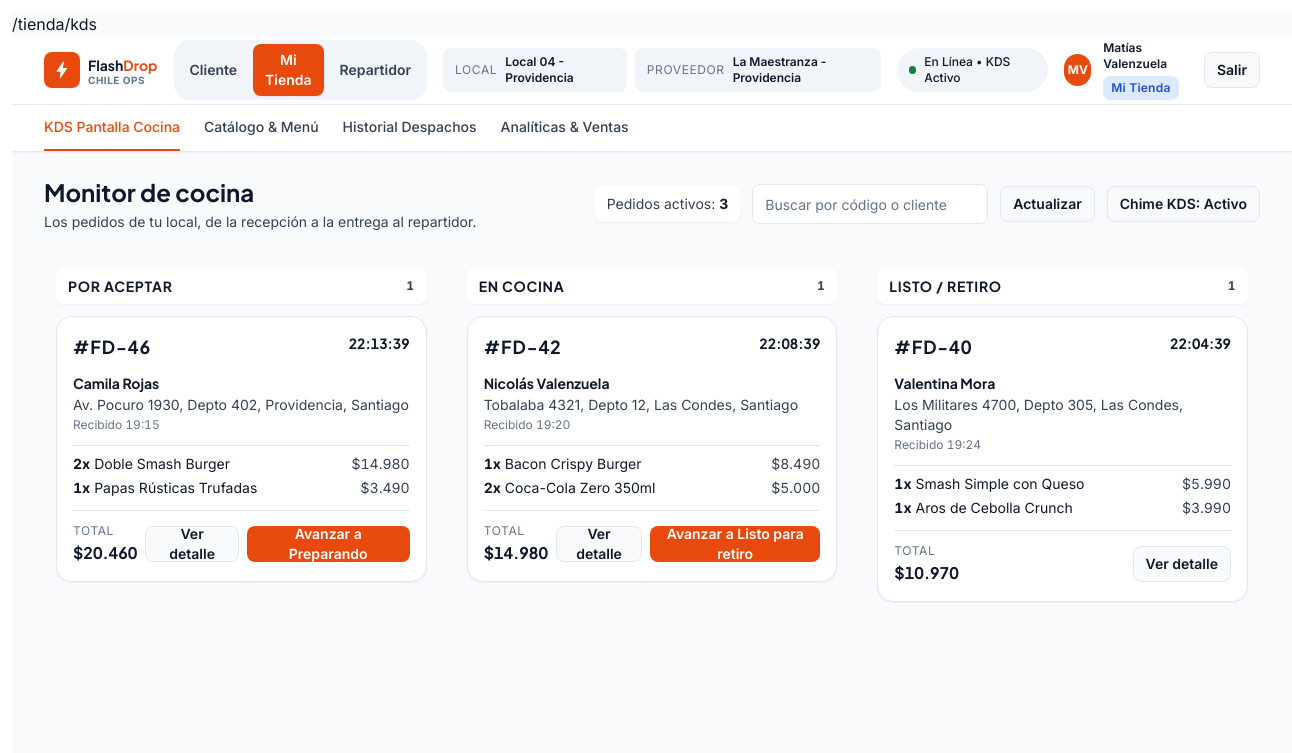
Test: end-to-end role workflows and hardening (spec S4, S5, S6) › executes the store operator workflow: kitchen board, order lifecycle, and catalog
Expected: the heading "Monitor de cocina" is shown, x1=44 y1=177 x2=254 y2=207
Expected: the element named "Columna POR ACEPTAR" is shown, x1=44 y1=256 x2=439 y2=594
Accept a pending order into preparation
Click the button "Avanzar a Preparando".
click(328, 544)  # box x1=247 y1=526 x2=410 y2=562
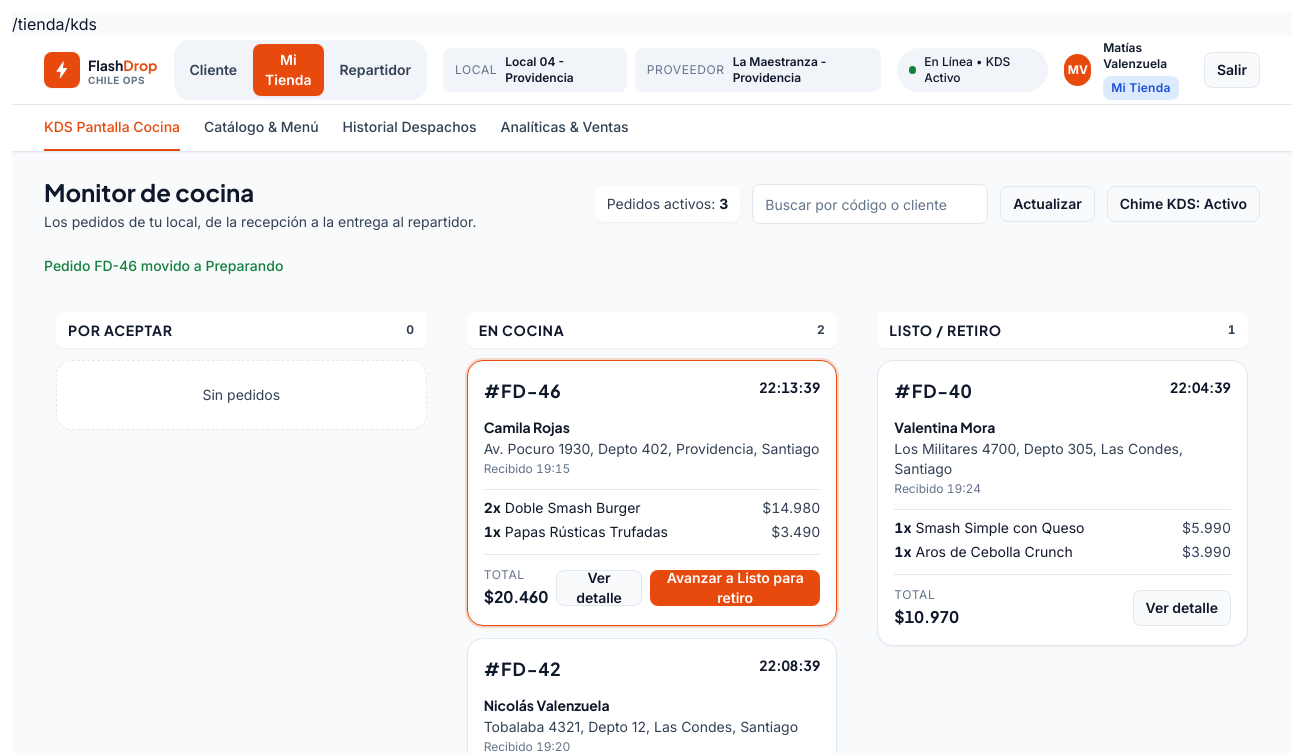
Navigate to catalog management
Click the link "Catálogo & Menú".
click(261, 126)  # box x1=204 y1=118 x2=319 y2=135
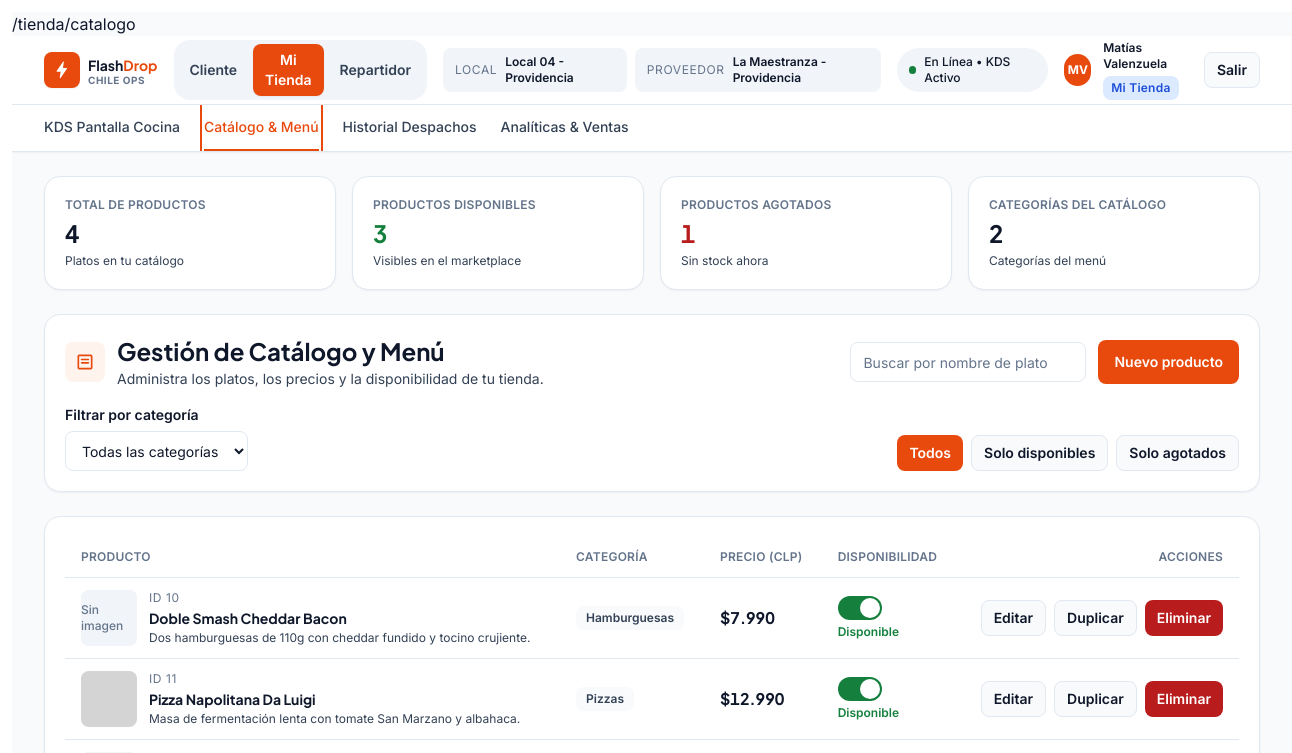
Expected: the heading "Gestión de Catálogo y Menú" is shown, x1=117 y1=336 x2=445 y2=366
Expected: the text "Doble Smash Cheddar Bacon" is shown, x1=149 y1=609 x2=347 y2=627
